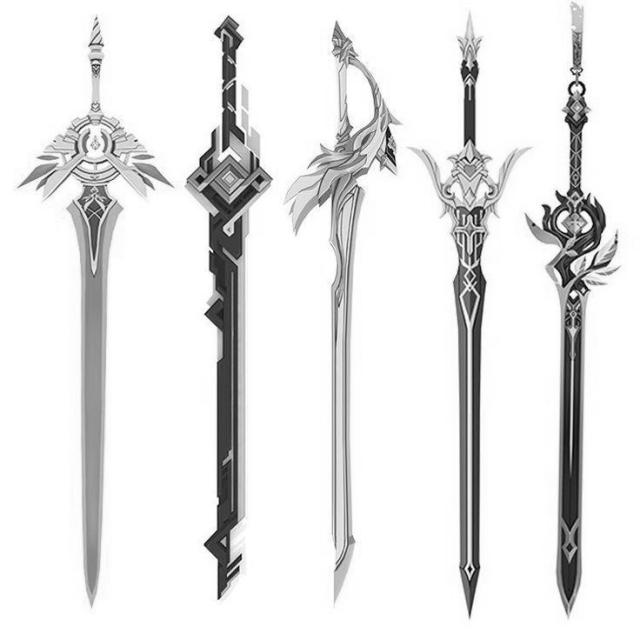Knife: (167, 15, 272, 606), (35, 21, 130, 613), (431, 25, 506, 619), (307, 17, 369, 605), (550, 16, 598, 622)
